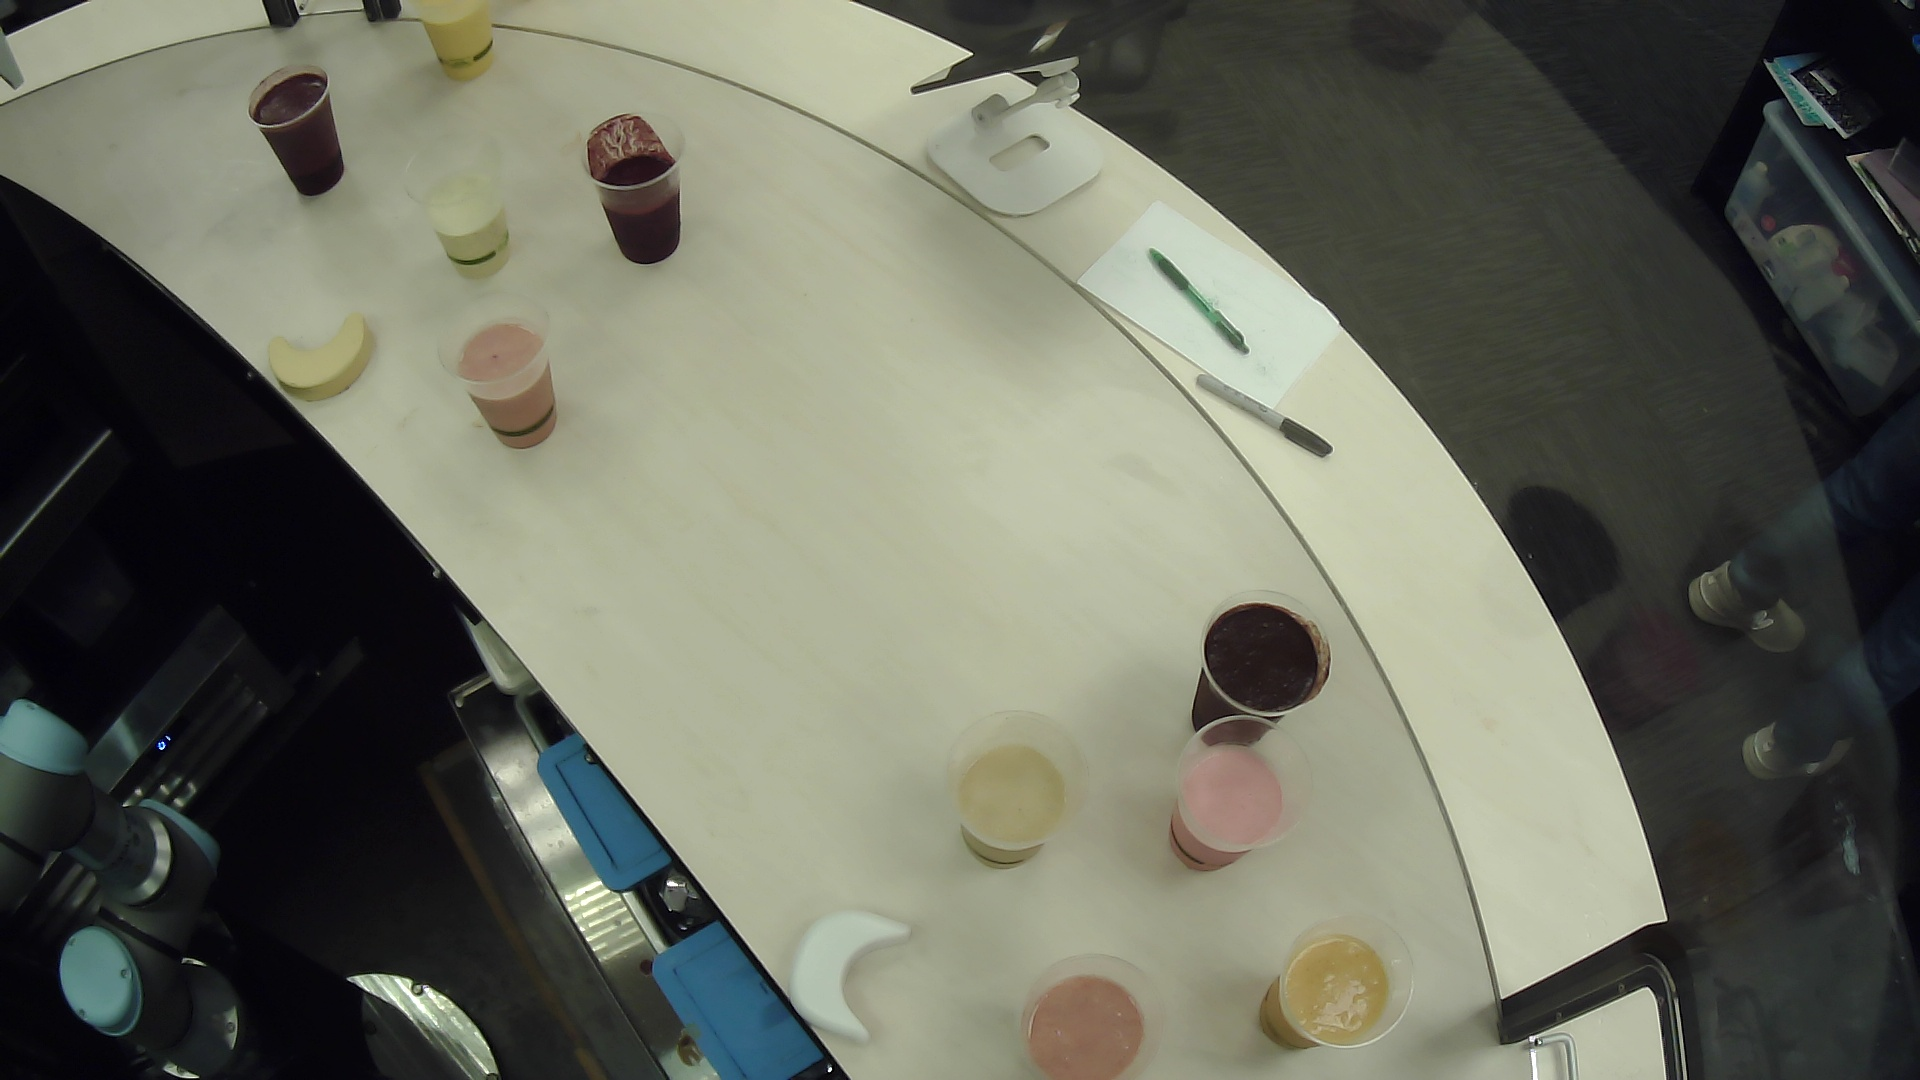Deliver: (765, 887, 942, 1054), (247, 301, 396, 427)
Full_cup: (1211, 894, 1436, 1080), (927, 687, 1116, 887), (1139, 705, 1331, 897), (1178, 563, 1369, 754), (981, 936, 1199, 1080), (429, 286, 593, 469), (553, 86, 698, 286), (378, 135, 531, 289), (240, 55, 373, 215), (397, 1, 531, 103)
